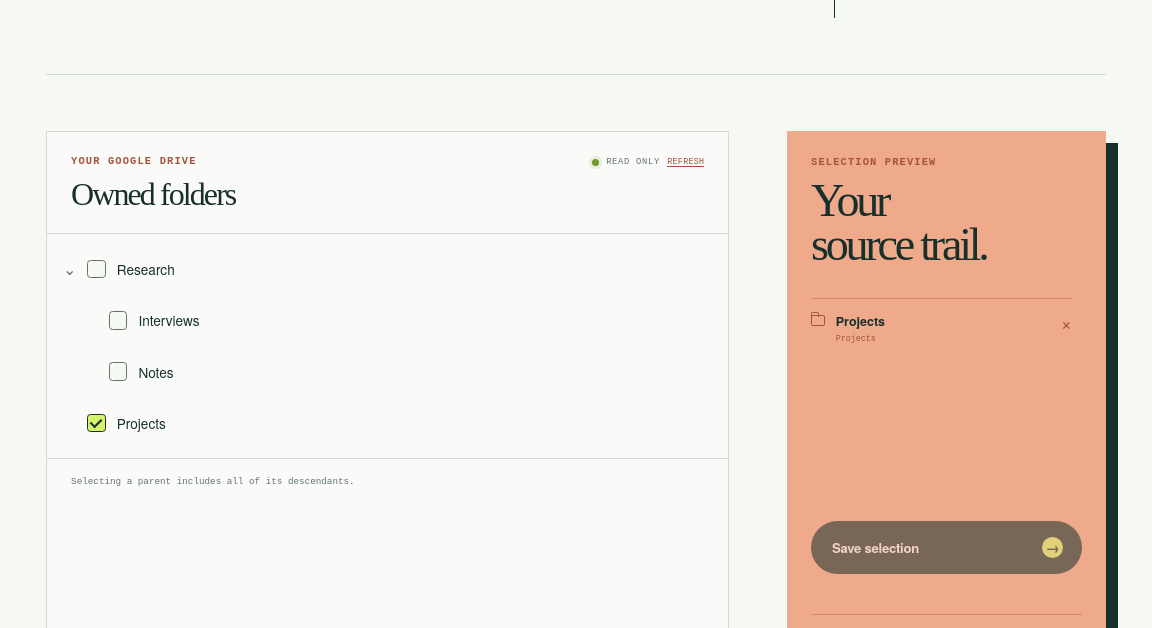
it: FolderSelectionPage › reloads saved folders and persists a changed selection
(page scrolled)
Expected: the checkbox labelled "Projects" is checked, [87, 412, 166, 432]
Click the checkbox labelled "Research": (131, 269) [87, 259, 175, 279]
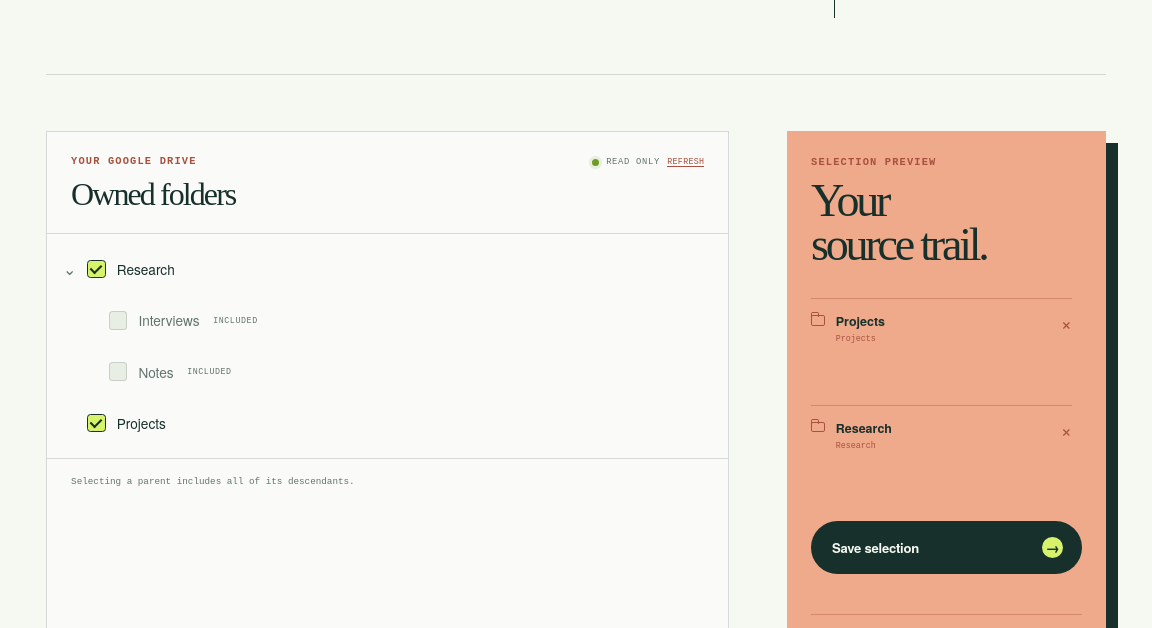
Click the button "Save selection →": (875, 547) [811, 521, 1082, 574]
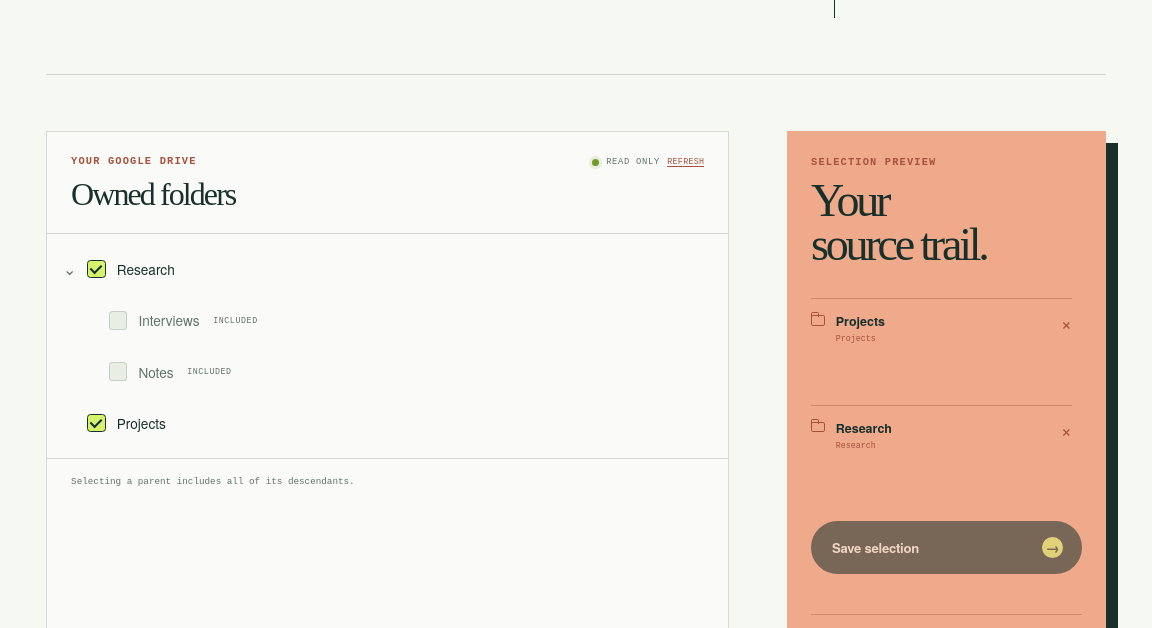
Expected: the button "Save selection →" is disabled, [811, 521, 1082, 574]
